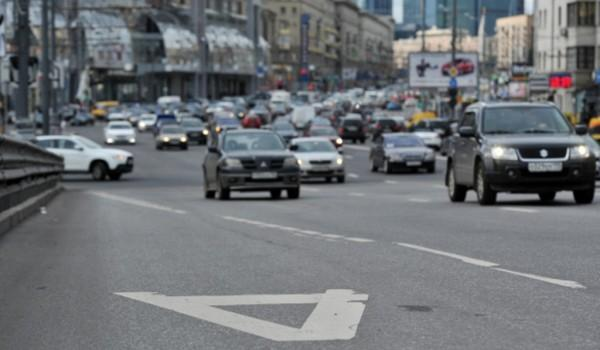bus_line: (2, 184, 599, 349)
